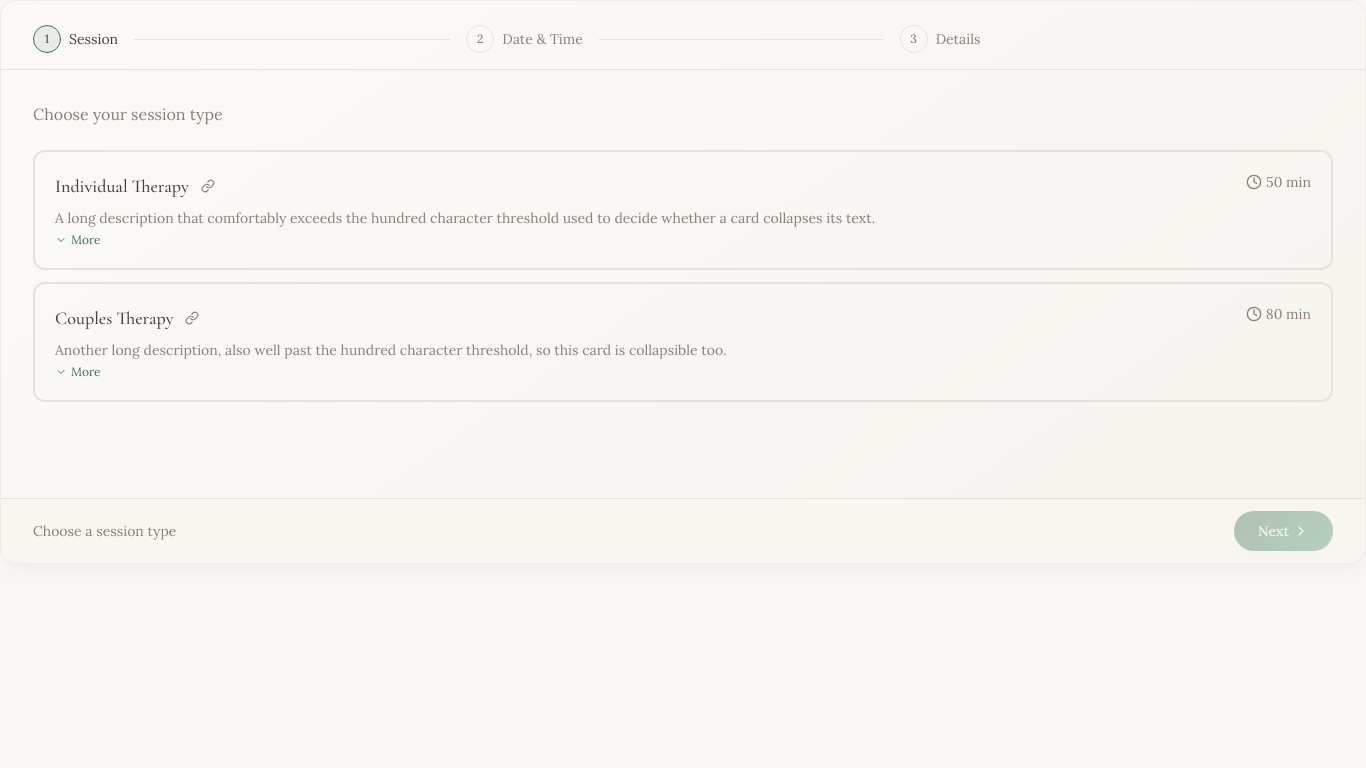
6a — sticky action bar › shows the selection quietly once one is made, and enables the action
Step 1. Click the radio button that starts with "Individual Therapy" → (683, 210), box x1=33 y1=150 x2=1333 y2=270
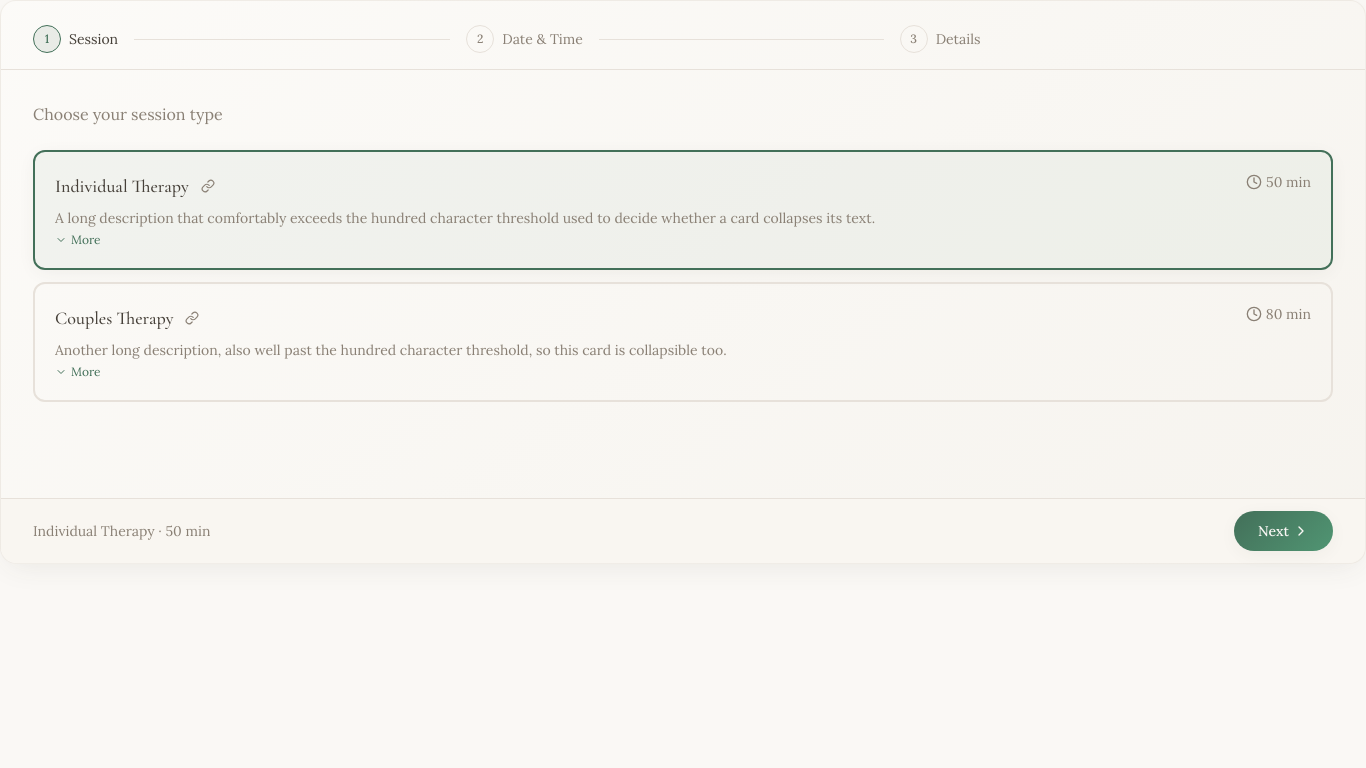
Expected: the text with test id "bar-summary" shows "Individual Therapy · 50", x1=33 y1=522 x2=210 y2=540
Expected: the button "Next" is enabled, x1=1234 y1=511 x2=1333 y2=551
